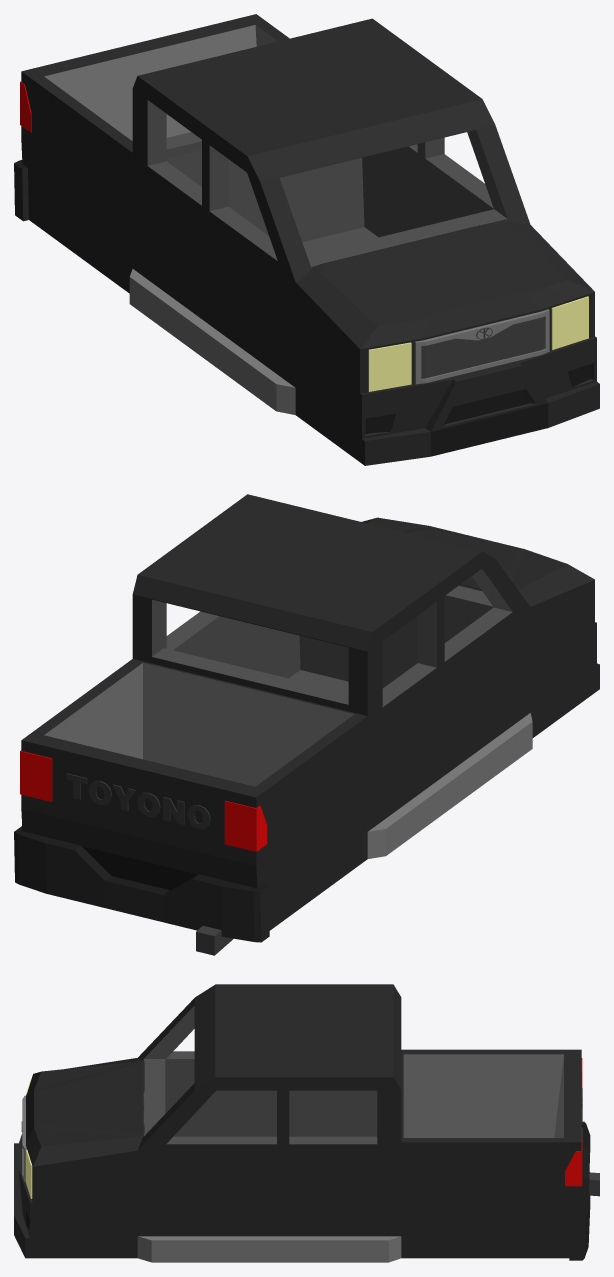
Rendered from Hilux.fbx.
3 renders of one model, top to bottom at view 1: azimuth 30°, elevation 25°; view 2: azimuth 150°, elevation 25°; view 3: azimuth 270°, elevation 25°, orthographic. The views are drawn at different scales.
Visible parts, largest first — view 1: Cube; view 2: Cube; view 3: Cube.
Boxes of the visible parts, x1,y1,x2,y2 form: Cube: [14, 14, 599, 465]; Cube: [14, 494, 599, 955]; Cube: [14, 984, 599, 1262].
Size of the model in its own units: 271 by 240 by 663.
Materials: 4 (1 with a texture image).
